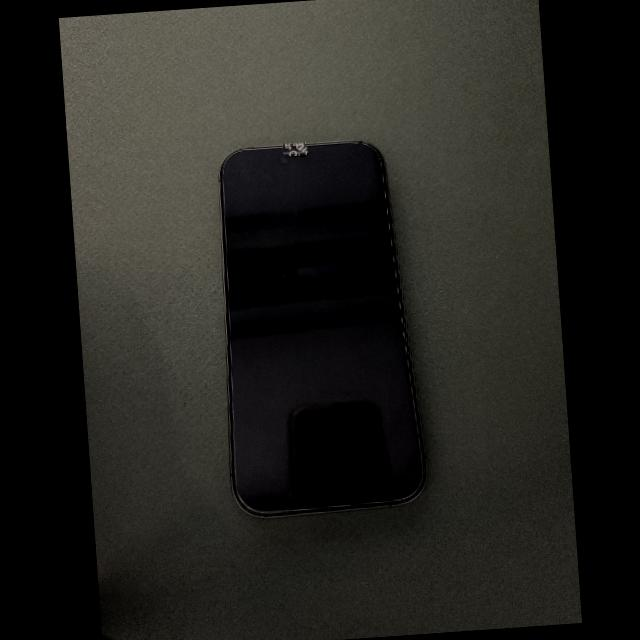lens: (280, 156, 288, 163)
phone: (219, 141, 425, 516)
sticker: (282, 142, 307, 157)
